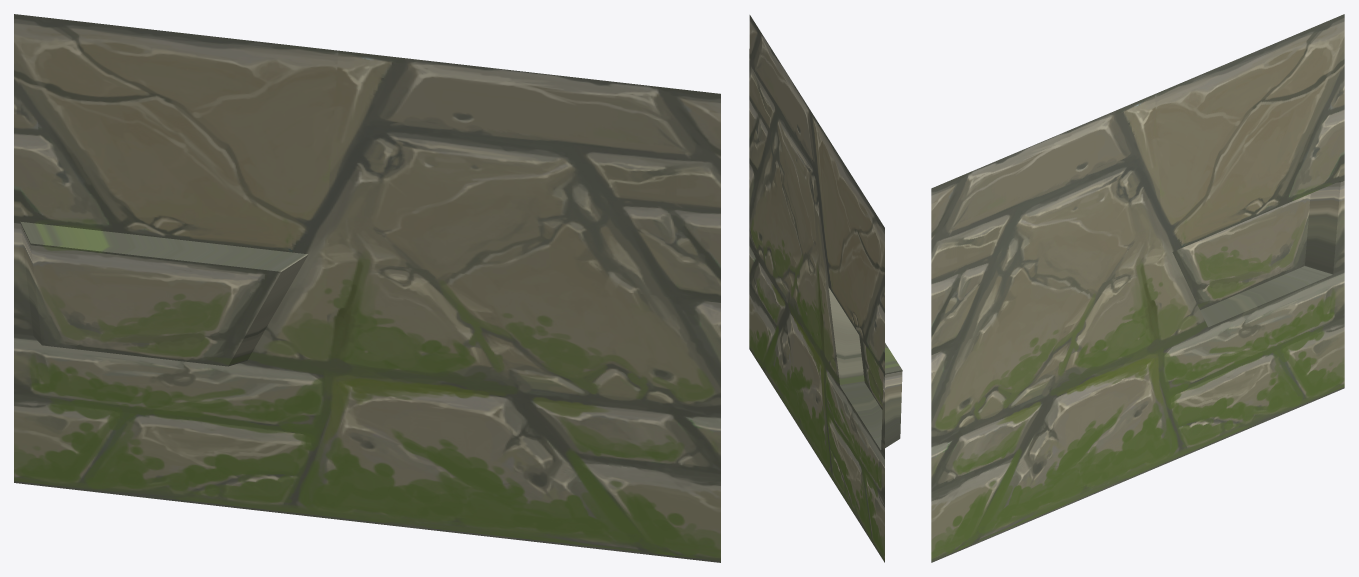
The model's file is wall_diagonal1.fbx.
The picture shows the model from 3 angles, left to right: view 1: azimuth 30°, elevation 25°; view 2: azimuth 150°, elevation 25°; view 3: azimuth 270°, elevation 25°; orthographic projection. The views are drawn at different scales.
Visible parts, largest first — view 1: diagonal1_v_cap9; view 2: diagonal1_v_cap9; view 3: diagonal1_v_cap9.
Part boxes in pixels (bbox=[...]): diagonal1_v_cap9: bbox=[14, 14, 720, 562]; diagonal1_v_cap9: bbox=[749, 15, 902, 562]; diagonal1_v_cap9: bbox=[931, 14, 1344, 562].
Size of the model in its own units: 2.02 by 2 by 2.
